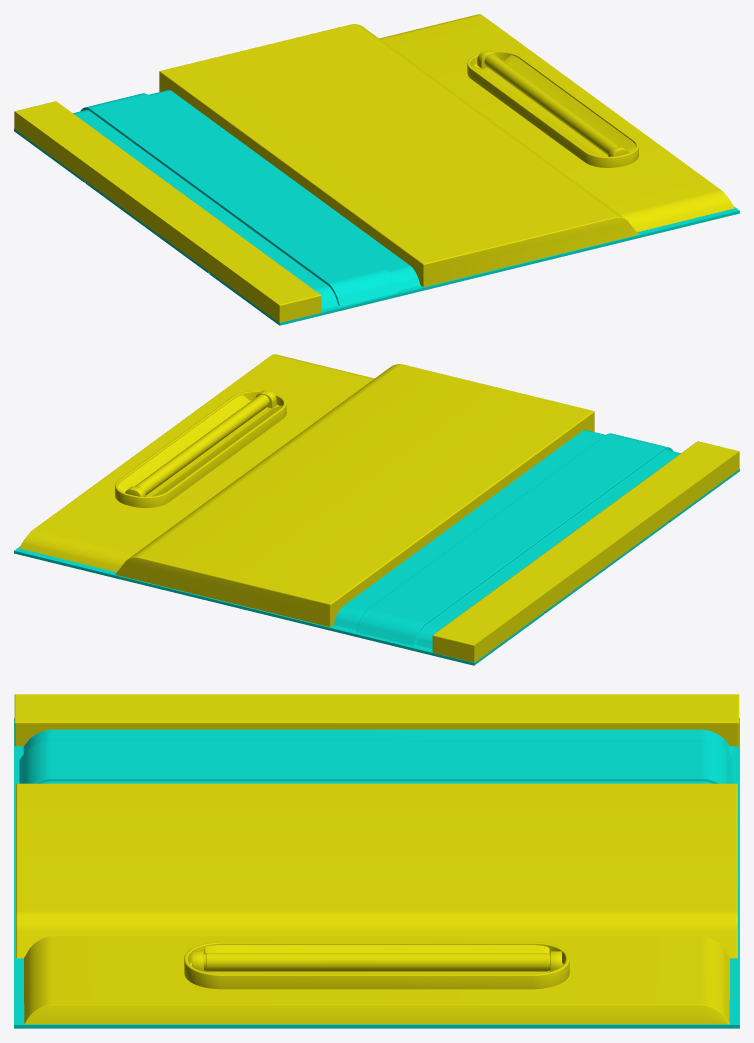
Rendered from Ceiling01.fbx.
3 views of the same model, one above another, from view 1: azimuth 30°, elevation 25°; view 2: azimuth 150°, elevation 25°; view 3: azimuth 270°, elevation 25° (orthographic). The views are drawn at different scales.
Parts seen in each view (by area): view 1: SM_Ceiling01; view 2: SM_Ceiling01; view 3: SM_Ceiling01.
Boxes of the visible parts, left/top/right/bottom form: SM_Ceiling01: left=14, top=14, right=739, bottom=325; SM_Ceiling01: left=14, top=354, right=739, bottom=665; SM_Ceiling01: left=14, top=694, right=739, bottom=1028.
Bounding box in the file's own units: 3.5 × 0.2109 × 3.5.
